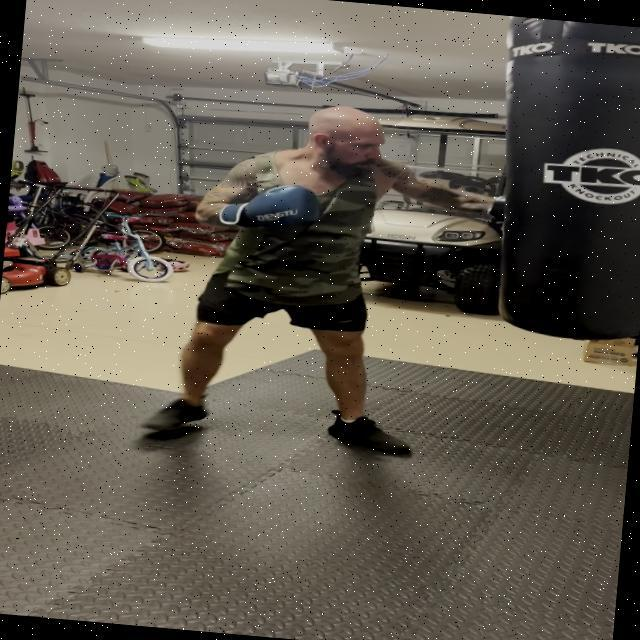bag: (479, 15, 640, 350)
hook: (195, 78, 539, 262)
